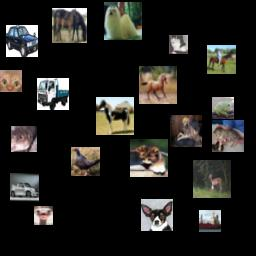automobile: (6, 25, 38, 57), (10, 173, 39, 202)
bird: (71, 147, 100, 176), (34, 206, 53, 225)
cat: (130, 139, 168, 177), (212, 120, 244, 152), (0, 70, 22, 92), (169, 35, 188, 54)
deer: (193, 160, 231, 198)
dog: (104, 2, 142, 40), (141, 199, 173, 231), (170, 115, 202, 147)
frog: (11, 126, 37, 152), (212, 97, 234, 119)
ship: (199, 210, 221, 232)
truck: (37, 78, 69, 110)
